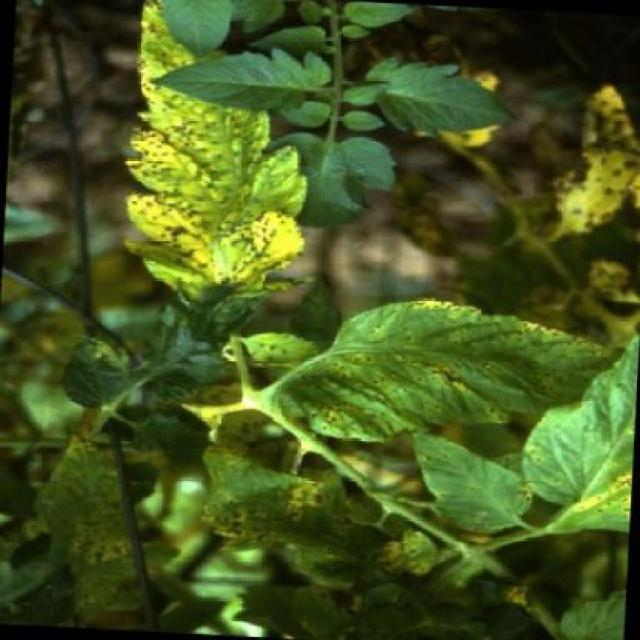Septoria leaf spot: (232, 279, 623, 471), (114, 3, 326, 343), (386, 432, 554, 549)
